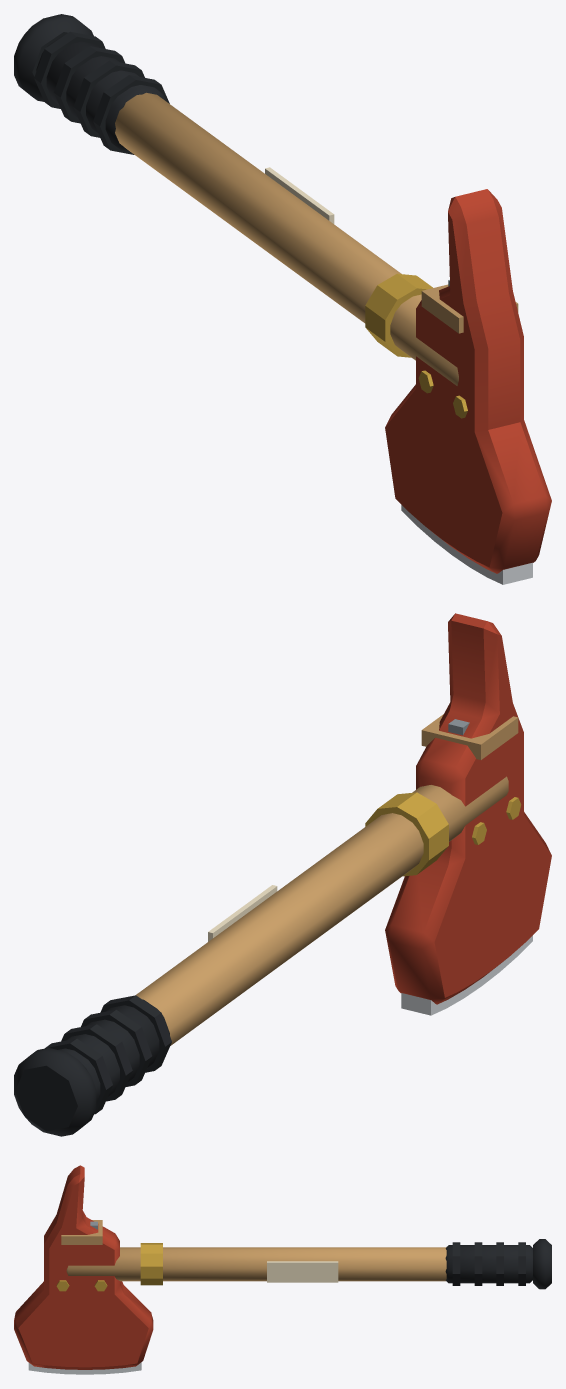
Rendered from Weapon_FireAxe.fbx.
The picture shows the model from 3 angles, top to bottom: view 1: azimuth 30°, elevation 25°; view 2: azimuth 150°, elevation 25°; view 3: azimuth 270°, elevation 25°; orthographic projection. The views are drawn at different scales.
Parts seen in each view (by area): view 1: Axe; view 2: Axe; view 3: Axe.
Part boxes in pixels (left/top/right/bottom): Axe: left=14, top=14, right=551, bottom=584; Axe: left=14, top=613, right=551, bottom=1136; Axe: left=14, top=1165, right=551, bottom=1374.
Bounding box in the file's own units: 0.3094 × 1.4 × 3.39.
